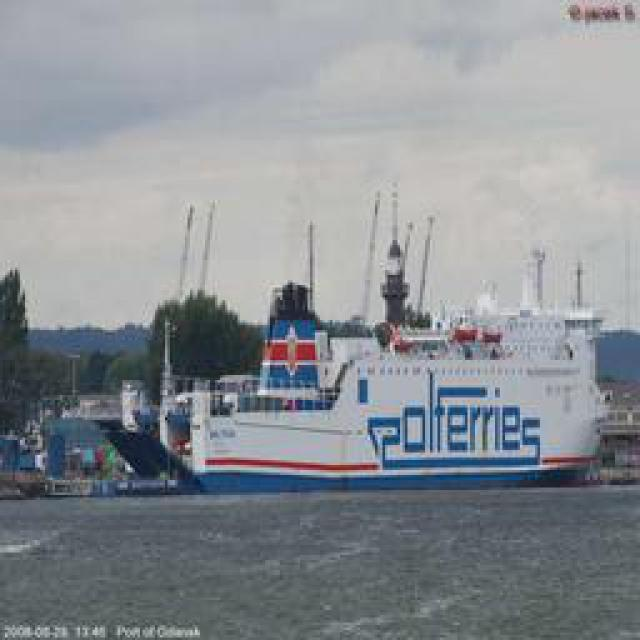Ship: (120, 184, 610, 497)
